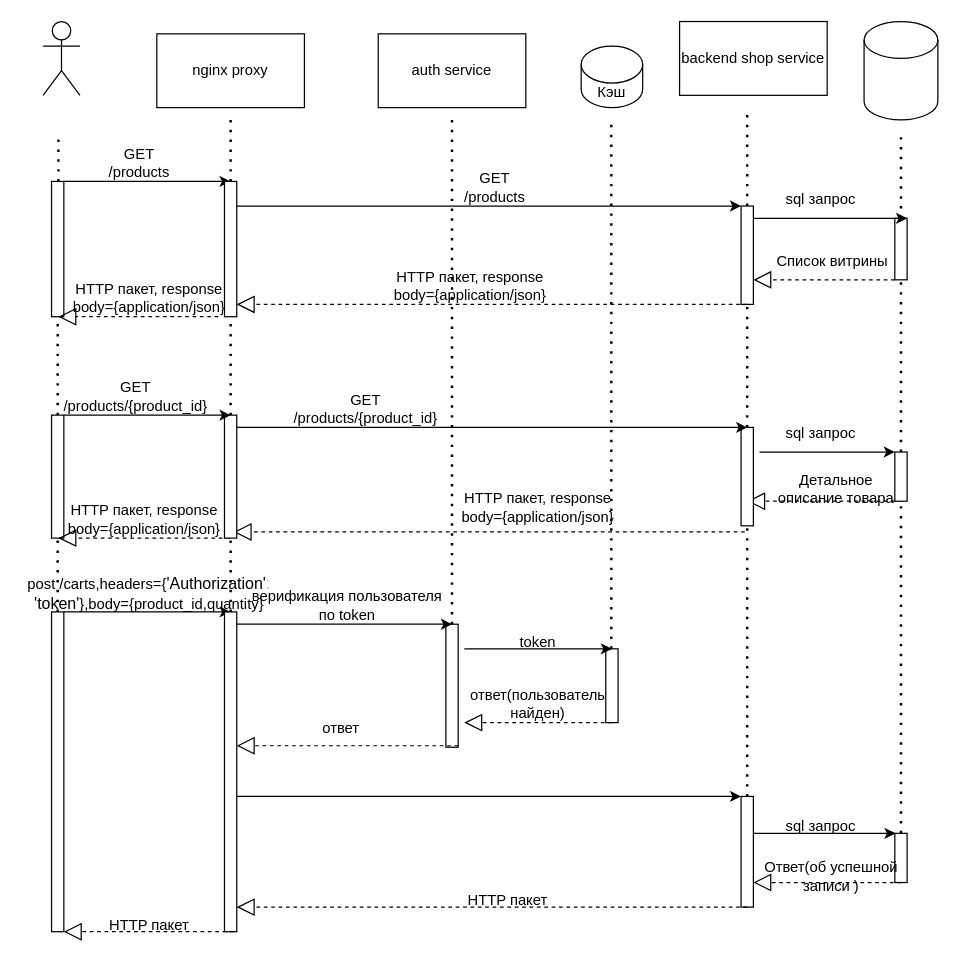
The diagram is 959 pixels wide and 970 high, and some of its shapes have lost their labels. The shapes that lost their labels are listed below. From the top down, each one's centre as x and y in pixels, then its label:
At point 61,57: "Actor".
At point 900,70: "Data Base".
